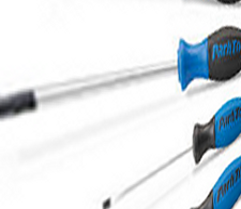Screwdriver: (91, 95, 241, 209)
